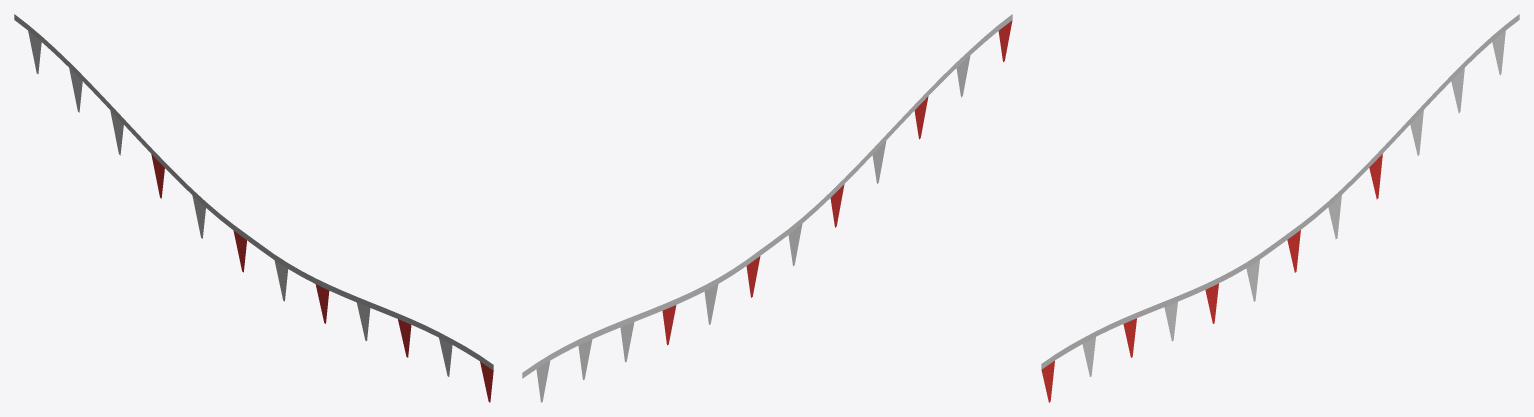
Rendered from Game Asset Tali Merah Putih.fbx.
3 renders of one model, left to right at view 1: azimuth 30°, elevation 25°; view 2: azimuth 150°, elevation 25°; view 3: azimuth 330°, elevation 25°, orthographic. The views are drawn at different scales.
Parts seen in each view (by area): view 1: Plane.001; view 2: Plane.001; view 3: Plane.001.
Part boxes in pixels (<box>): Plane.001: <box>14,14,493,402</box>; Plane.001: <box>522,14,1012,402</box>; Plane.001: <box>1041,14,1519,402</box>.
Size of the model in its own units: 2.3 by 96.22 by 902.
